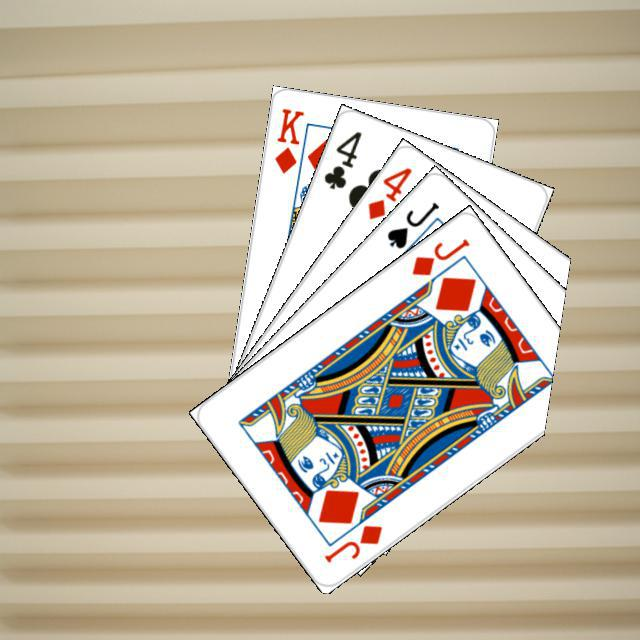4c: (319, 126, 364, 192)
4d: (362, 162, 414, 221)
Jd: (319, 519, 385, 565), (406, 233, 472, 278)
Js: (382, 197, 441, 251)
Kd: (270, 103, 306, 175)
